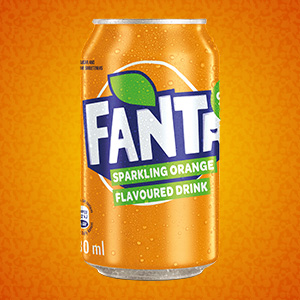Fanta: (69, 14, 230, 285)
